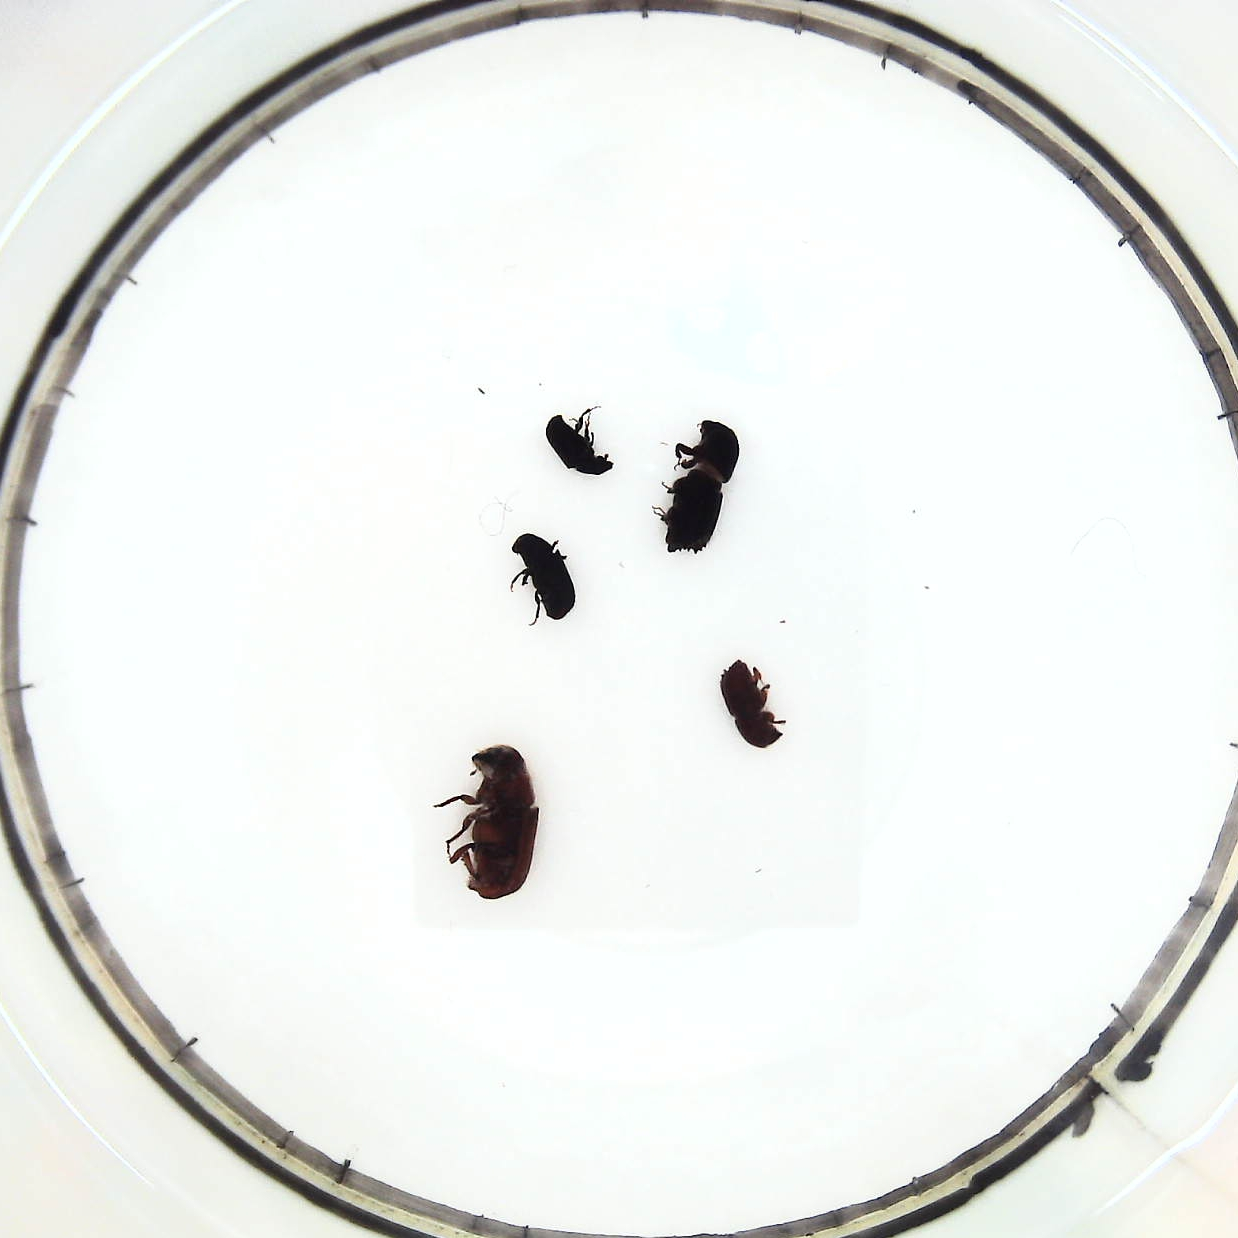Boerner: (651, 412, 746, 560)
Leconte: (431, 736, 543, 902)
armandi: (506, 529, 582, 631)
coleoptera: (543, 397, 616, 483)
linnaeus: (716, 653, 789, 753)
